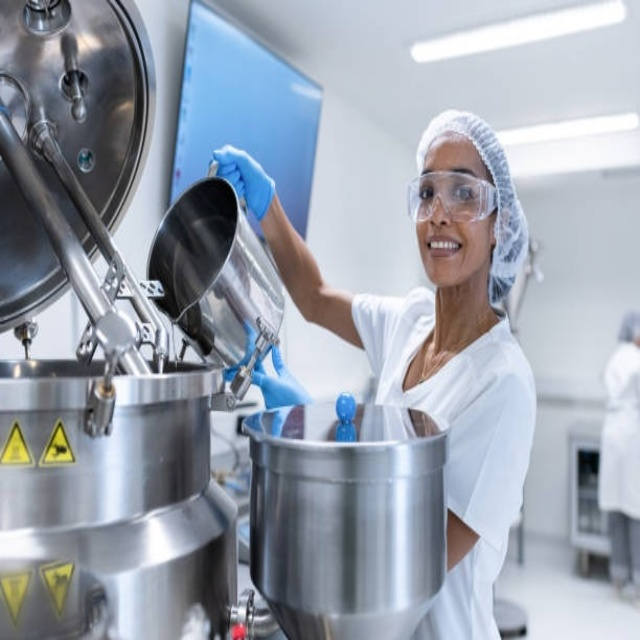Gafas: (406, 172, 500, 225)
Guantes: (210, 141, 276, 224), (248, 333, 311, 405)
Sin_mascara: (422, 229, 464, 275)
